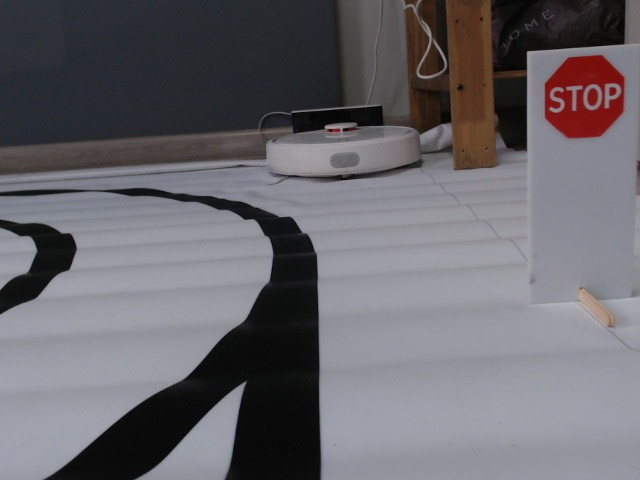Stop: (542, 53, 626, 140)
